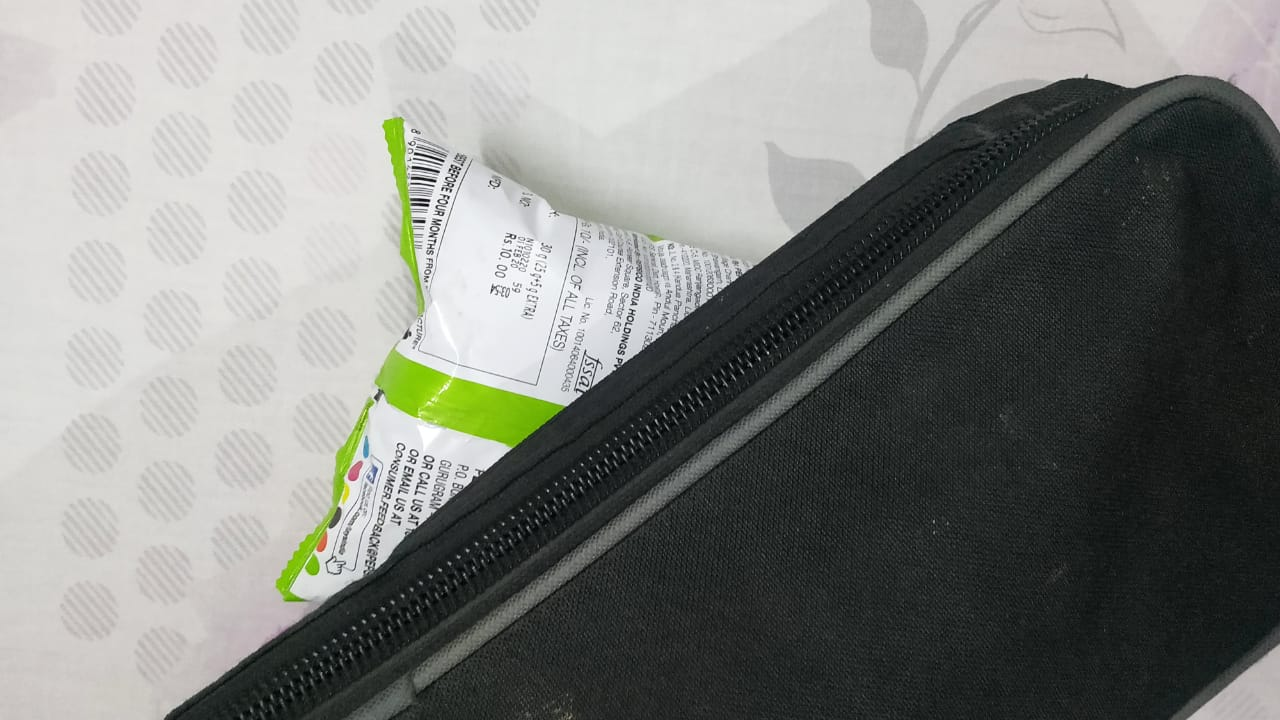lays chips: (279, 123, 708, 572)
